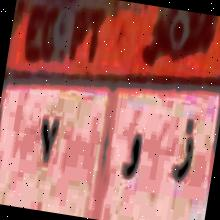7: (32, 108, 64, 168)
waw: (118, 128, 144, 188)
zay: (168, 113, 199, 190)
